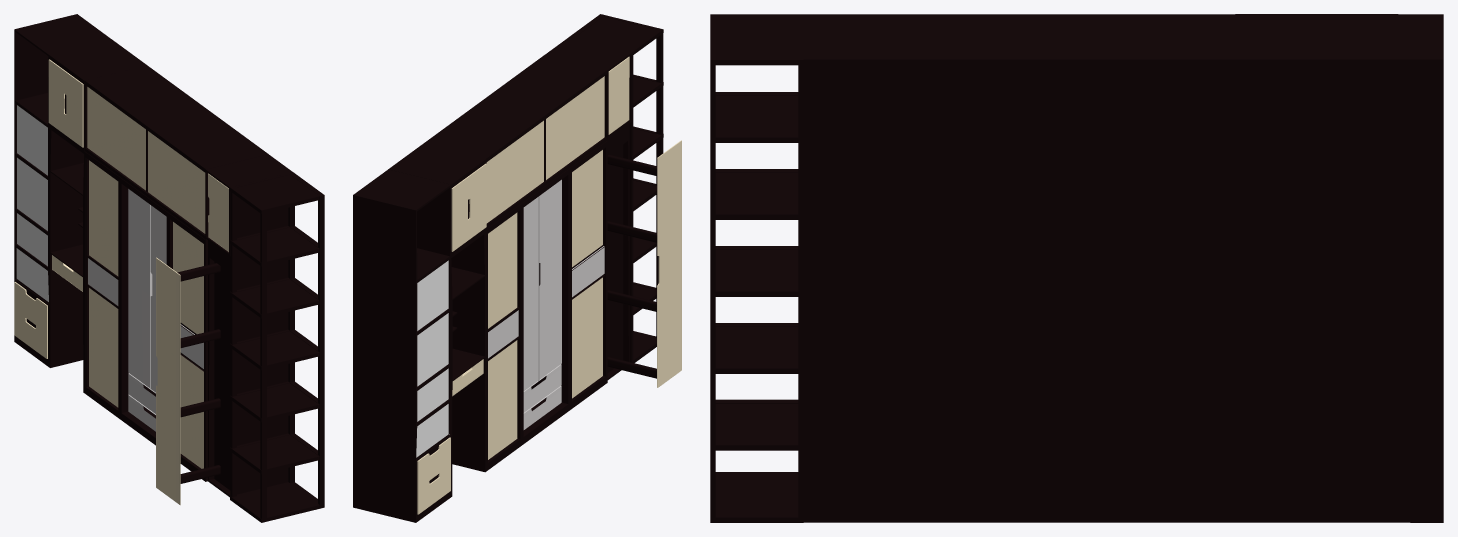
The model's file is ward3.glb.
3 renders of one model, left to right at view 1: azimuth 30°, elevation 25°; view 2: azimuth 150°, elevation 25°; view 3: azimuth 270°, elevation 25°, orthographic. The views are drawn at different scales.
Parts seen in each view (by area): view 1: Cube.016_9, Cube.018_25, Cube.001_10, Plane.013_40, Cube.008_16, Plane.003_35, Cube.019_26, Cube.009_17, Cube.011_19, Plane.008_38, Cube.012_20, Plane_32 (+24 smaller); view 2: Cube.008_16, Cube.001_10, Plane.013_40, Plane.008_38, Plane.003_35, Cube.019_26, Cube.009_17, Cube.012_20, Cube.016_9, Cube.011_19, Cube.017_24, Cube.018_25 (+18 smaller); view 3: Cube.001_10, Cube.008_16, Cube.017_24, Cube.014_22, Cube.013_21, Cube.018_25, Cube.011_19, Cube.012_20, Cube.016_9, Plane.015_7, Plane.016_8, Plane.005_2 (+4 smaller).
Part boxes in pixels (x1,y1,x2,y2): Cube.016_9: (230,172,324,522); Cube.018_25: (205,154,292,497); Cube.001_10: (49,39,146,392); Plane.013_40: (128,189,166,431); Cube.008_16: (14,14,111,366); Plane.003_35: (89,160,118,407); Cube.019_26: (156,257,180,505); Cube.009_17: (16,105,48,301); Cube.011_19: (84,65,207,195); Plane.008_38: (173,222,203,468); Cube.012_20: (145,110,268,239); Plane_32: (87,87,145,190); Cube.008_16: (353,169,451,522); Cube.001_10: (388,143,486,496); Plane.013_40: (523,179,561,429); Plane.008_38: (572,150,602,398); Plane.003_35: (488,212,517,459); Cube.019_26: (657,140,681,387); Cube.009_17: (416,260,449,457); Cube.012_20: (484,55,607,184); Cube.016_9: (569,14,663,363); Cube.011_19: (424,99,546,228); Cube.017_24: (521,168,570,445); Cube.018_25: (545,37,631,379); Cube.001_10: (1235,14,1339,522); Cube.008_16: (1339,14,1443,522); Cube.017_24: (986,164,1130,522); Cube.014_22: (876,164,986,522); Cube.013_21: (1131,164,1235,522); Cube.018_25: (803,14,876,522); Cube.011_19: (1055,14,1235,164); Cube.012_20: (875,14,1055,164); Cube.016_9: (710,14,803,522); Plane.015_7: (715,473,798,515); Plane.016_8: (715,18,798,56); Plane.005_2: (715,96,798,134).
Size of the model in its own units: 0.5716 by 1.51 by 2.17.
